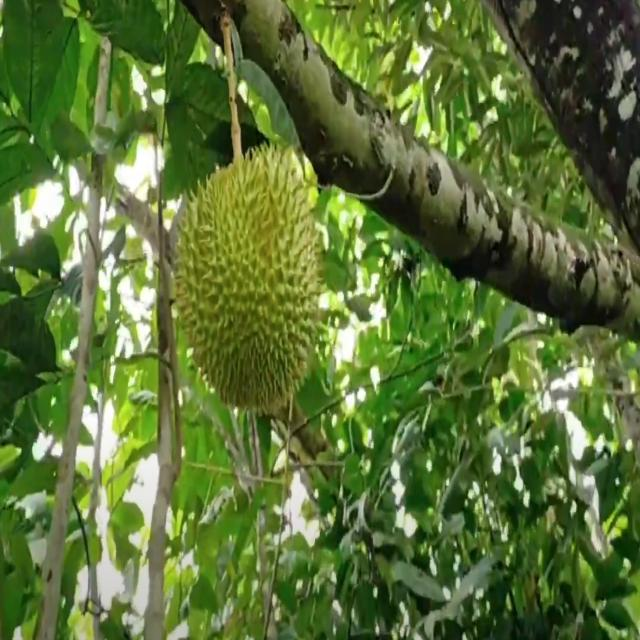immature: (173, 140, 324, 408)
